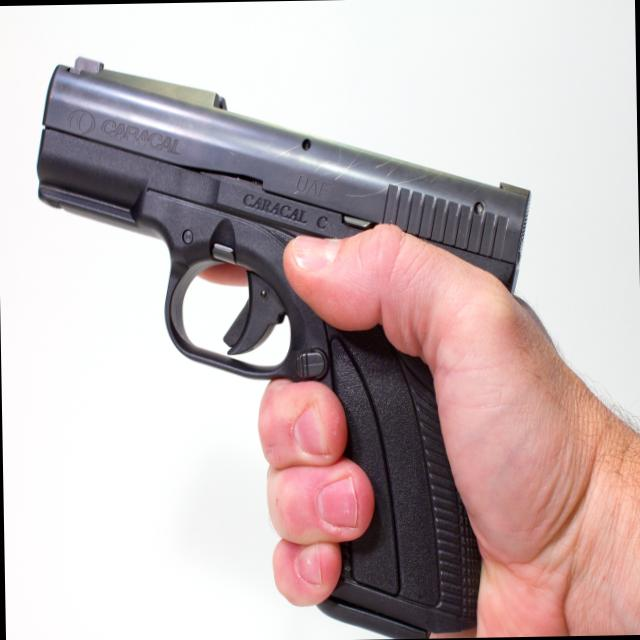Gun: (10, 25, 561, 640)
